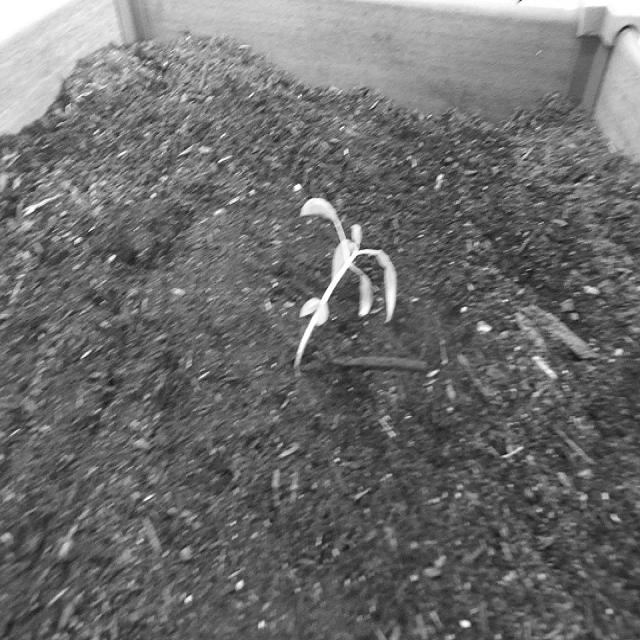Healthy: (293, 193, 399, 392)
